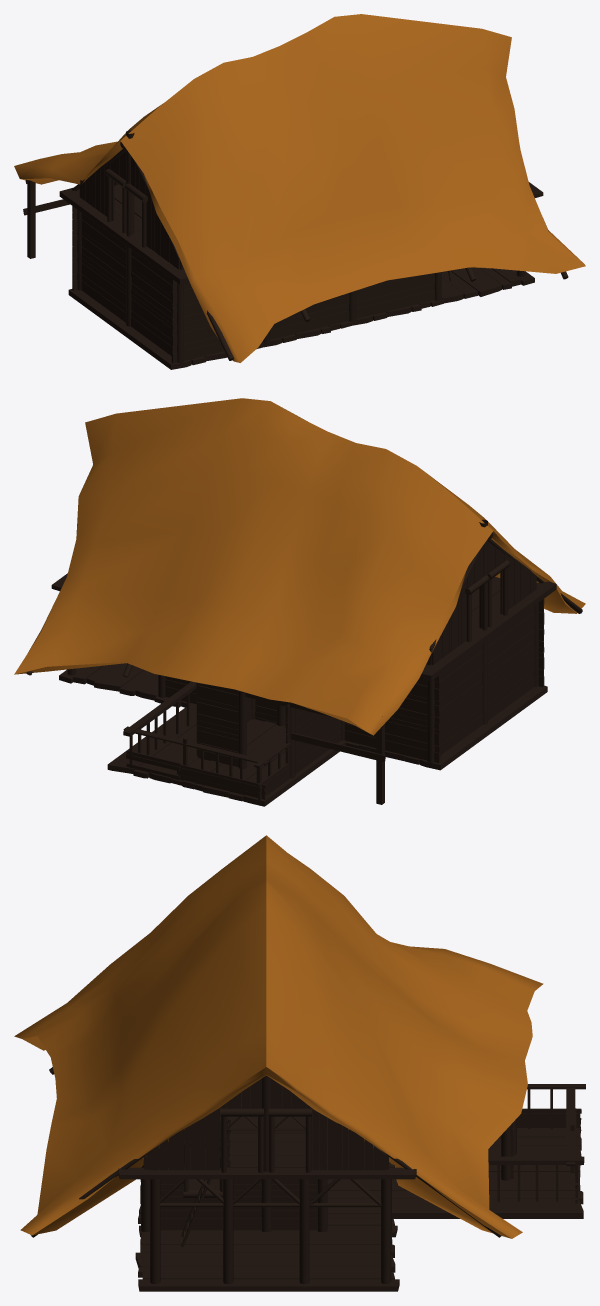
File: -LOD1_p_hut_001.obj
The picture shows the model from 3 angles, top to bottom: view 1: azimuth 30°, elevation 25°; view 2: azimuth 150°, elevation 25°; view 3: azimuth 270°, elevation 25°; orthographic projection. The views are drawn at different scales.
Visible parts, largest first — view 1: Cylinder.001_Cylinder.008, Cylinder.007; view 2: Cylinder.001_Cylinder.008, Cylinder.007; view 3: Cylinder.001_Cylinder.008, Cylinder.007.
Boxes of the visible parts, x1,y1,x2,y2 form: Cylinder.001_Cylinder.008: (14,14,585,362); Cylinder.007: (23,130,568,369); Cylinder.001_Cylinder.008: (14,398,585,735); Cylinder.007: (26,519,582,806); Cylinder.001_Cylinder.008: (14,835,543,1238); Cylinder.007: (31,1067,585,1291).
Bounding box in the file's own units: 18.25 × 11.73 × 19.02.
